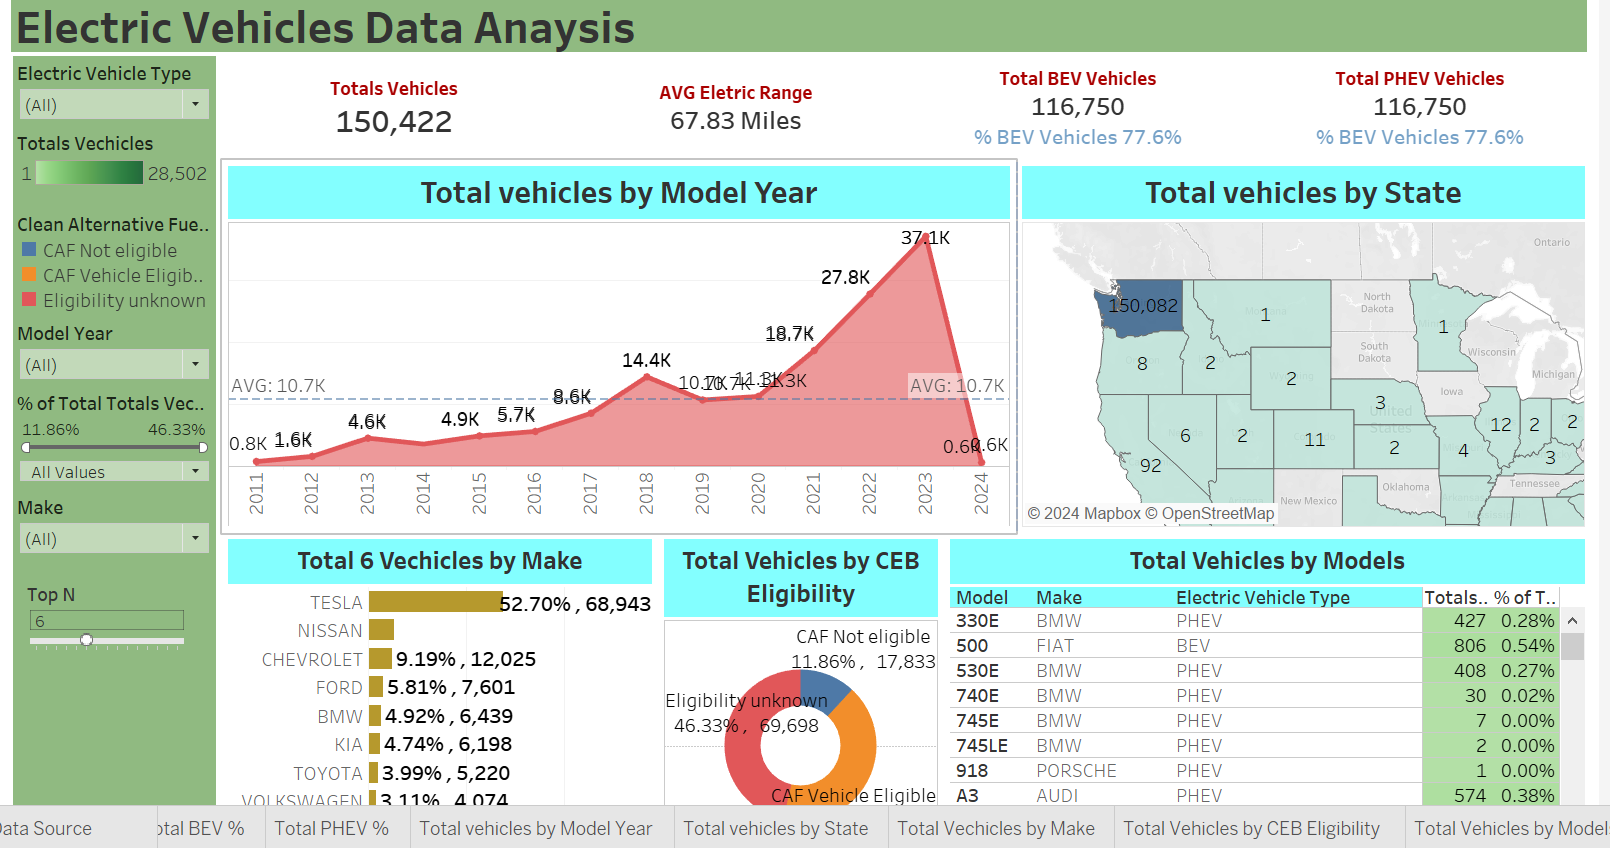

The dashboard page shown, as its layout file describes it:
{"tool":"tableau","page":{"name":"Dashboard 1","canvas":[1600,900],"ordinal":0},"visuals":[{"type":"title","box":[8,8,1584,62]},{"type":"filter","title":"Total Vechicles by Make","param":"[federated.1iqmn8k1bi5fec18bzsmu18n46o4].[none:Electric Vehicle Type:nk]","box":[14,70,203,70]},{"type":"worksheet","title":"Totals Vehicles","mark":"Automatic","box":[223,70,343,104]},{"type":"worksheet","title":"AVD Electric Range ","mark":"Automatic","box":[566,70,342,104]},{"type":"worksheet","title":"Total BEV % ","mark":"Automatic","box":[908,70,342,104]},{"type":"worksheet","title":"Total PHEV % ","mark":"Automatic","box":[1250,70,342,104]},{"type":"legend","title":"Total Vehicles by Models","param":"[federated.1iqmn8k1bi5fec18bzsmu18n46o4].[usr:Calculation_572238652509982720:qk]","box":[14,140,203,81]},{"type":"worksheet","title":"Total vehicles by Model Year","mark":"Area","rows":["Calculation_572238652509982720","Calculation_572238652509982720"],"cols":["Model Year"],"box":[223,174,794,373]},{"type":"worksheet","title":"Total vehicles by State","mark":"Multipolygon","box":[1017,174,575,373]},{"type":"legend","title":"Total Vehicles by CEB Eligibility","param":"[federated.1iqmn8k1bi5fec18bzsmu18n46o4].[none:Clean Alternative Fuel Vehicle (C","box":[14,221,203,109]},{"type":"filter","title":"Total vehicles by Model Year","param":"[federated.1iqmn8k1bi5fec18bzsmu18n46o4].[none:Model Year:ok]","box":[14,330,203,70]},{"type":"filter","title":"Total Vehicles by CEB Eligibility","param":"[federated.1iqmn8k1bi5fec18bzsmu18n46o4].[pcto:usr:Calculation_57223865250998272","box":[14,400,203,104]},{"type":"filter","title":"Total Vehicles by Models","param":"[federated.1iqmn8k1bi5fec18bzsmu18n46o4].[none:Make:nk]","box":[14,504,203,70]},{"type":"worksheet","title":"Total Vechicles by Make","mark":"Automatic","rows":["Make"],"cols":["Calculation_572238652509982720"],"box":[223,547,436,345]},{"type":"worksheet","title":"Total Vehicles by CEB Eligibility","mark":"Pie","rows":["Calculation_1056375612674969603","Calculation_1056375612674969603"],"box":[659,547,286,345]},{"type":"worksheet","title":"Total Vehicles by Models","mark":"Square","rows":["Model","Make","Electric Vehicle Type"],"box":[945,547,647,345]},{"type":"parameter","param":"[Parameters].[Parameter 1]","box":[28,595,160,75]}]}

Visuals, with their boxes on the page's 1600x900 design canvas (x1, y1, x2, y2). These are canvas units, not pixel positions in the 1610x848 screenshot, which may show the page scaled, cropped or inside an application window:
title: <box>8,8,1592,70</box>
"Total Vechicles by Make" filter: <box>14,70,217,140</box>
"Totals Vehicles" worksheet: <box>223,70,566,174</box>
"AVD Electric Range " worksheet: <box>566,70,908,174</box>
"Total BEV % " worksheet: <box>908,70,1250,174</box>
"Total PHEV % " worksheet: <box>1250,70,1592,174</box>
"Total Vehicles by Models" legend: <box>14,140,217,221</box>
"Total vehicles by Model Year" worksheet (Area marks): <box>223,174,1017,547</box>
"Total vehicles by State" worksheet (Multipolygon marks): <box>1017,174,1592,547</box>
"Total Vehicles by CEB Eligibility" legend: <box>14,221,217,330</box>
"Total vehicles by Model Year" filter: <box>14,330,217,400</box>
"Total Vehicles by CEB Eligibility" filter: <box>14,400,217,504</box>
"Total Vehicles by Models" filter: <box>14,504,217,574</box>
"Total Vechicles by Make" worksheet: <box>223,547,659,892</box>
"Total Vehicles by CEB Eligibility" worksheet (Pie marks): <box>659,547,945,892</box>
"Total Vehicles by Models" worksheet (Square marks): <box>945,547,1592,892</box>
parameter: <box>28,595,188,670</box>
